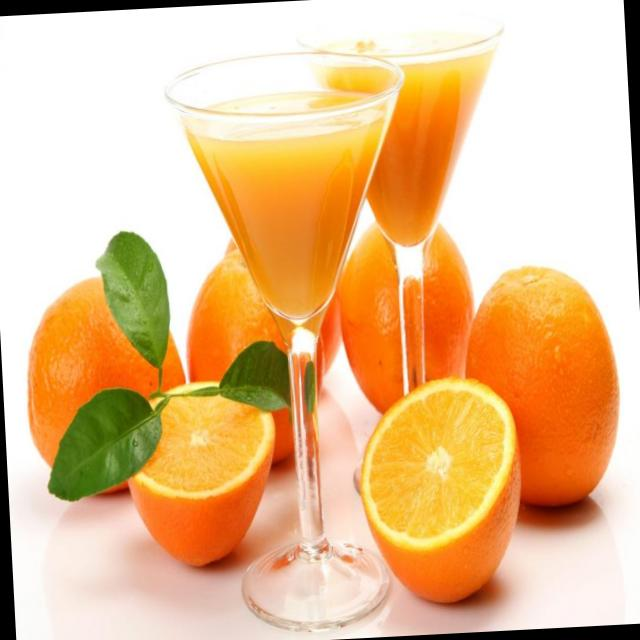orange: (454, 251, 638, 527), (13, 254, 191, 514), (333, 203, 503, 438), (172, 246, 330, 461)
